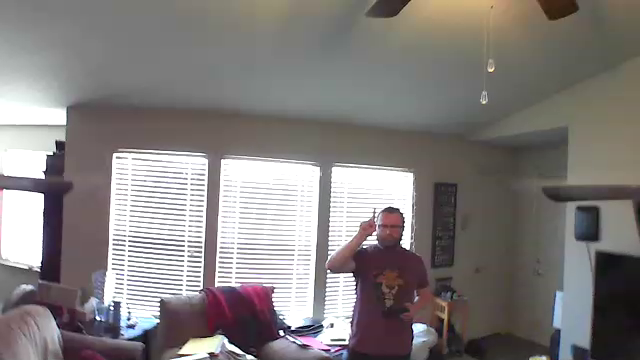up: (356, 205, 378, 237)
